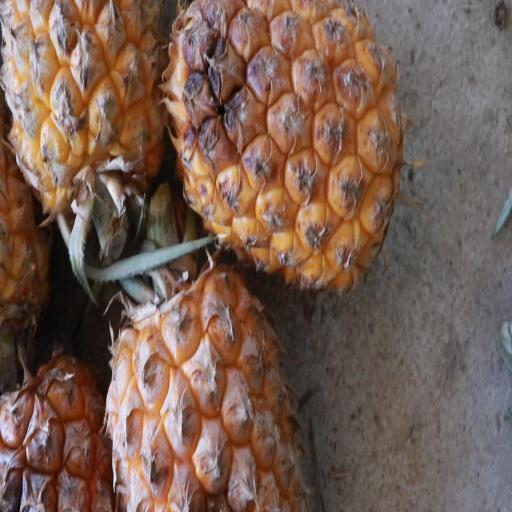Pineapple - v8 v1: (158, 0, 412, 301), (104, 254, 305, 512), (0, 1, 157, 252)
